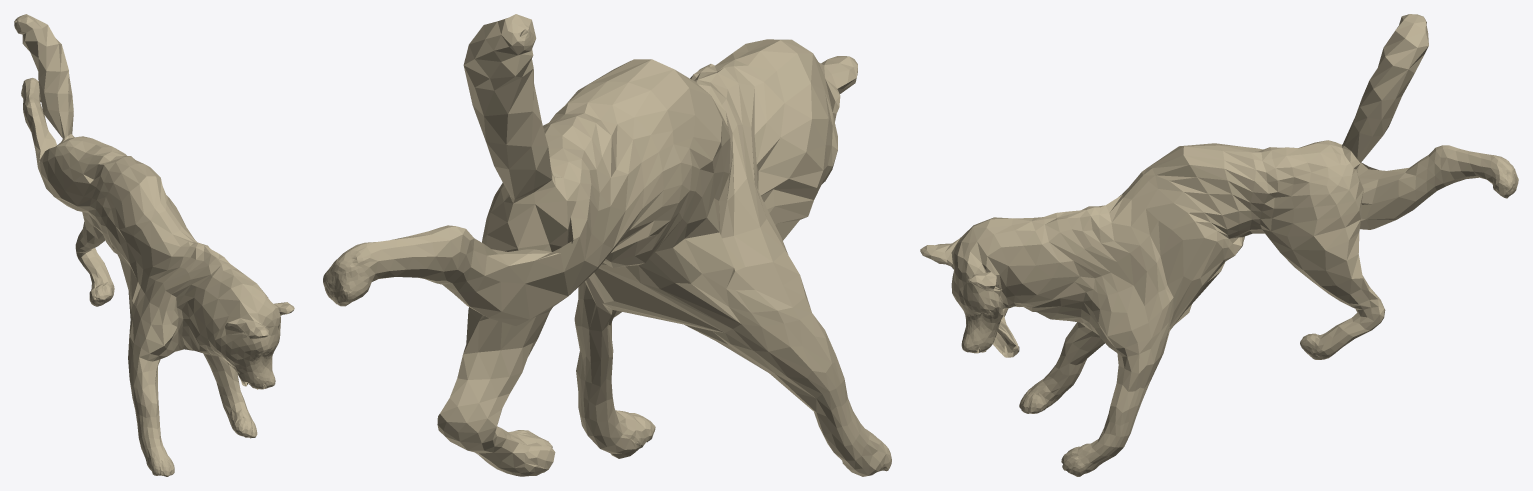
3 renders of one model, left to right at view 1: azimuth 30°, elevation 25°; view 2: azimuth 150°, elevation 25°; view 3: azimuth 270°, elevation 25°, orthographic. The views are drawn at different scales.
Parts seen in each view (by area): view 1: world; view 2: world; view 3: world.
Part boxes in pixels (x1,y1,x2,y2): world: (14,14,294,476); world: (323,14,891,476); world: (920,14,1518,476).
Size of the model in its own units: 0.3911 by 1.04 by 1.37.
